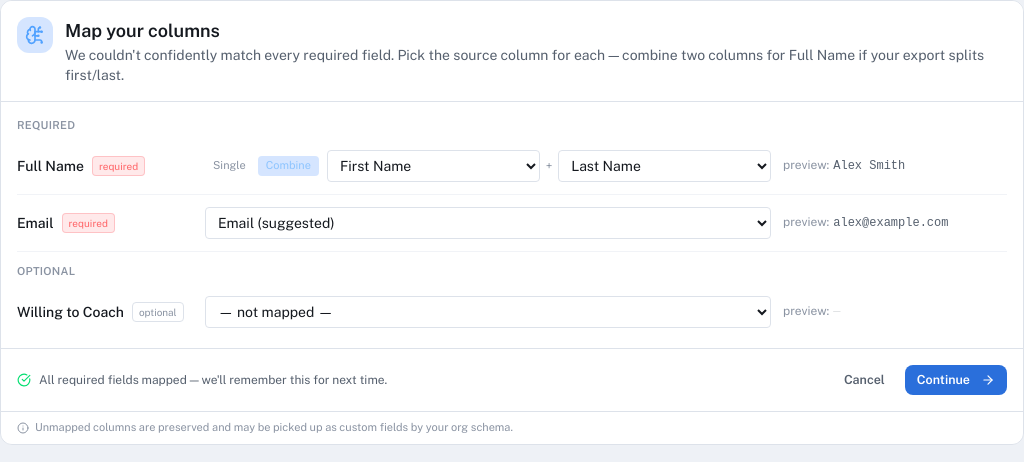
Test: ColumnMapper › labels source column selects after switching back to single-column mode
Click the button "Single". click: [229, 166]
box: [205,156,254,176]
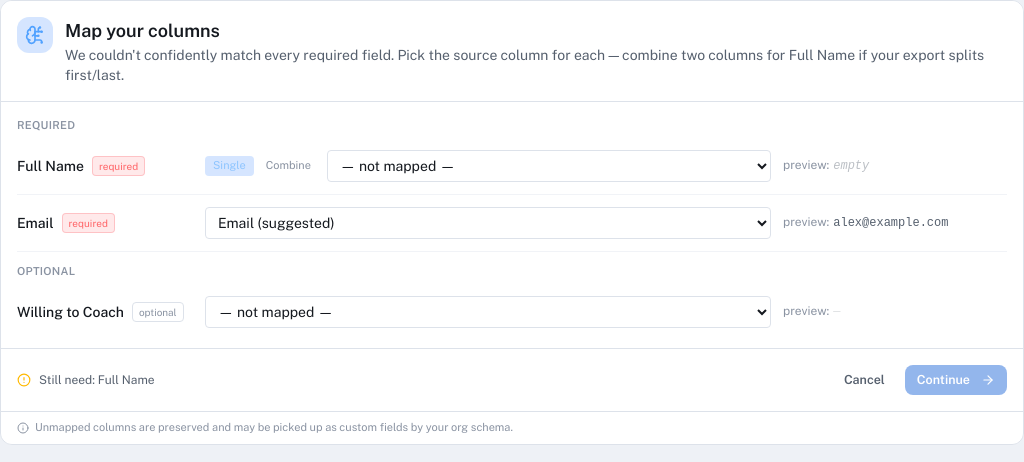
expect the dropdown named "Email source column" shows "Email (suggested)": met, box [205,207,771,239]
expect the dropdown named "Full Name source column" shows "— not mapped —": met, box [327,150,771,182]
